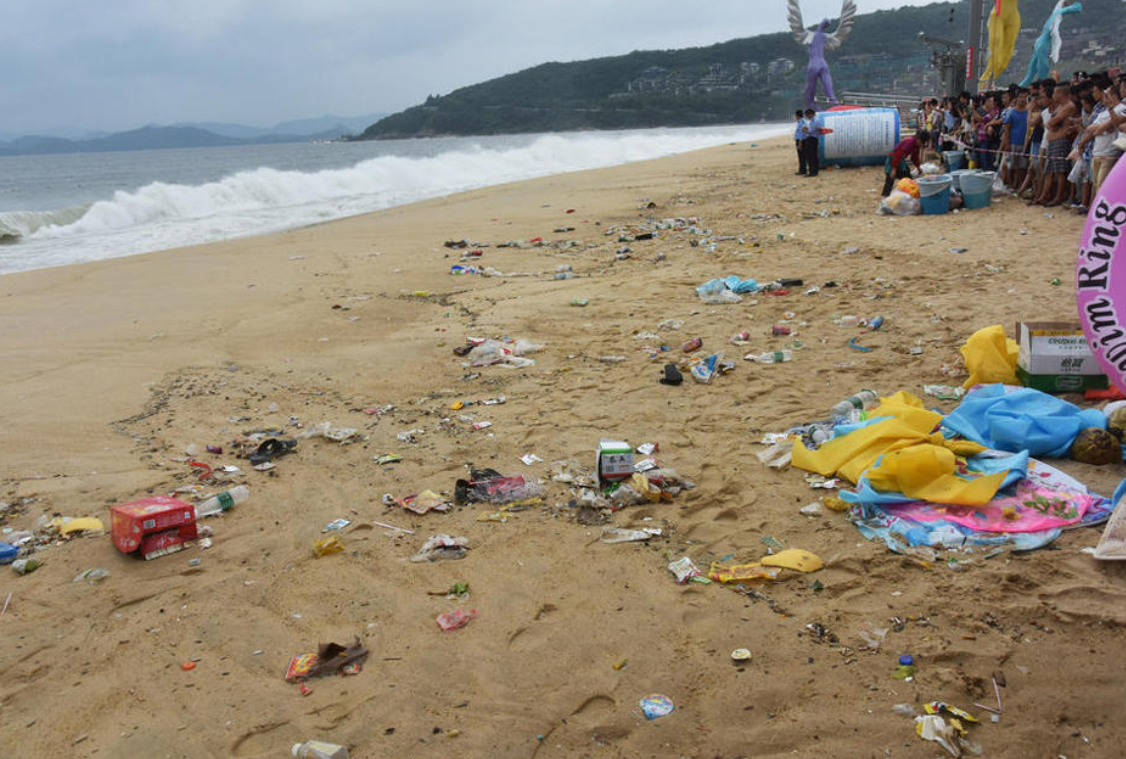garbage: (774, 395, 1115, 560), (1000, 304, 1124, 408), (682, 556, 850, 607), (592, 515, 697, 592), (577, 452, 682, 528), (103, 500, 221, 567), (1, 503, 106, 574), (182, 436, 313, 491), (959, 306, 1033, 399), (885, 160, 997, 218), (447, 463, 569, 515), (280, 633, 389, 678), (906, 695, 981, 759), (163, 481, 267, 525), (692, 269, 813, 304), (422, 582, 497, 634), (645, 336, 726, 382), (439, 236, 506, 291), (363, 489, 473, 522), (455, 332, 550, 369), (313, 511, 365, 577), (833, 315, 910, 359), (403, 528, 484, 569), (514, 228, 578, 276), (426, 396, 507, 432), (304, 418, 378, 454), (604, 219, 665, 258), (358, 395, 415, 436), (276, 736, 377, 759), (739, 344, 796, 370), (634, 691, 677, 723), (718, 647, 751, 674), (896, 639, 924, 670), (759, 315, 795, 339), (176, 651, 202, 684), (729, 325, 754, 347)
